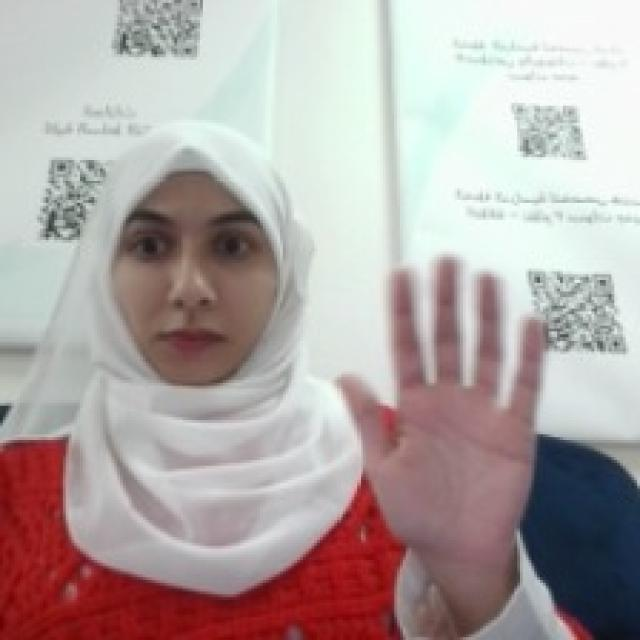Hello: (328, 246, 548, 563)
